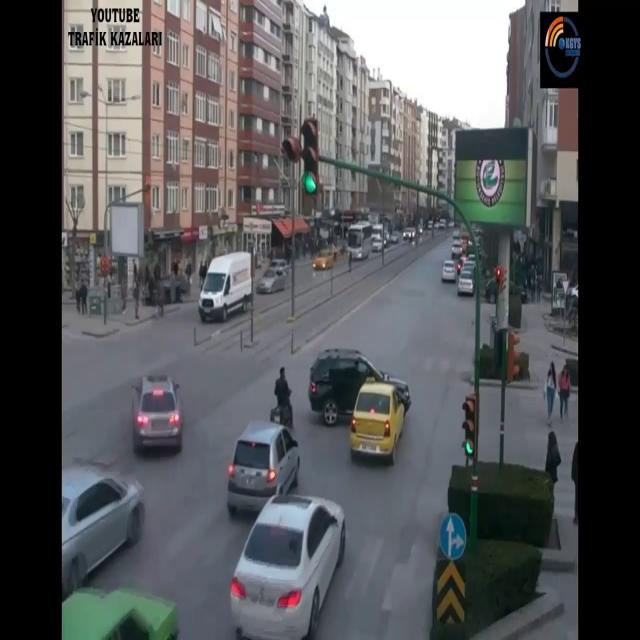accident: (306, 344, 414, 470)
